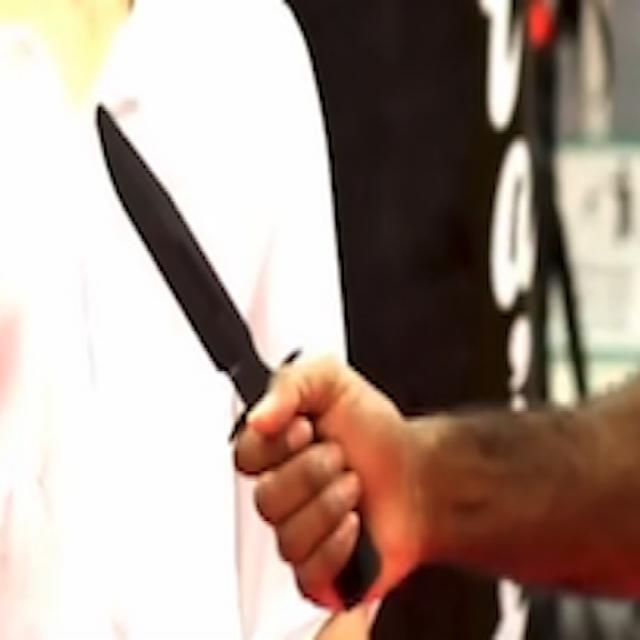suspicion: (78, 86, 638, 625), (86, 95, 266, 396)
